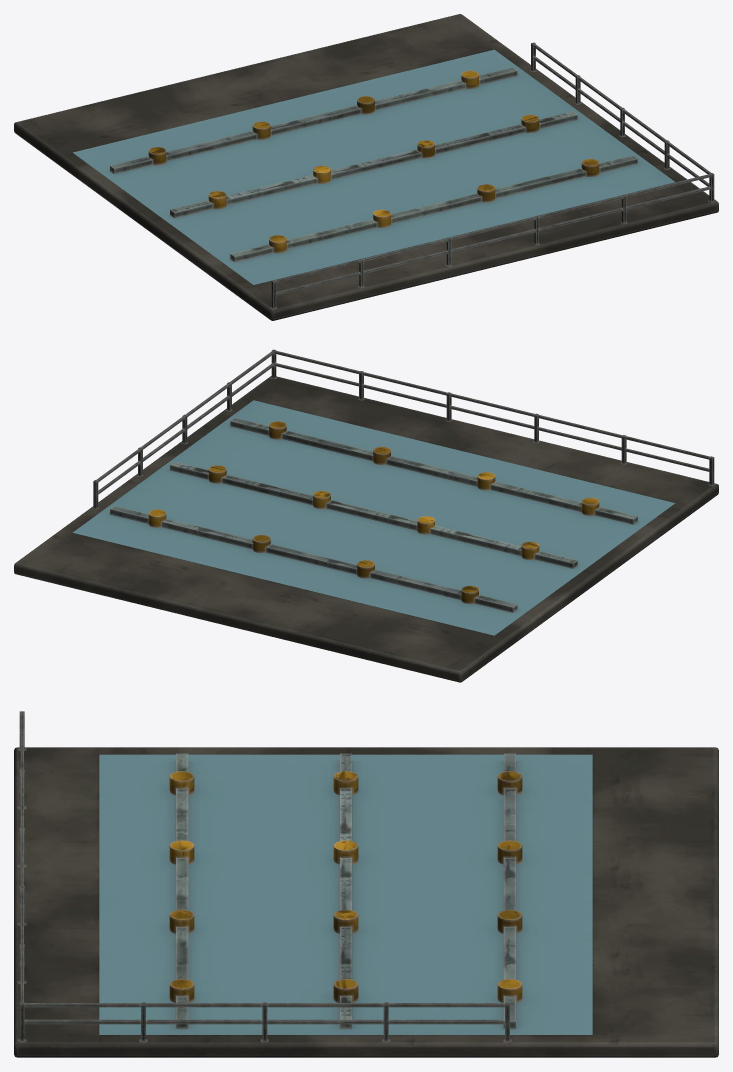
The model's file is water_farm.glb.
The picture shows the model from 3 angles, top to bottom: view 1: azimuth 30°, elevation 25°; view 2: azimuth 150°, elevation 25°; view 3: azimuth 270°, elevation 25°; orthographic projection. The views are drawn at different scales.
Parts seen in each view (by area): view 1: te_water_farm; view 2: te_water_farm; view 3: te_water_farm.
Boxes of the visible parts, bbox=[...] form: te_water_farm: bbox=[14, 14, 718, 320]; te_water_farm: bbox=[14, 349, 718, 682]; te_water_farm: bbox=[14, 711, 718, 1057].
Bounding box in the file's own units: 1.72 × 0.14 × 1.72.
1 material, 1 textured.
